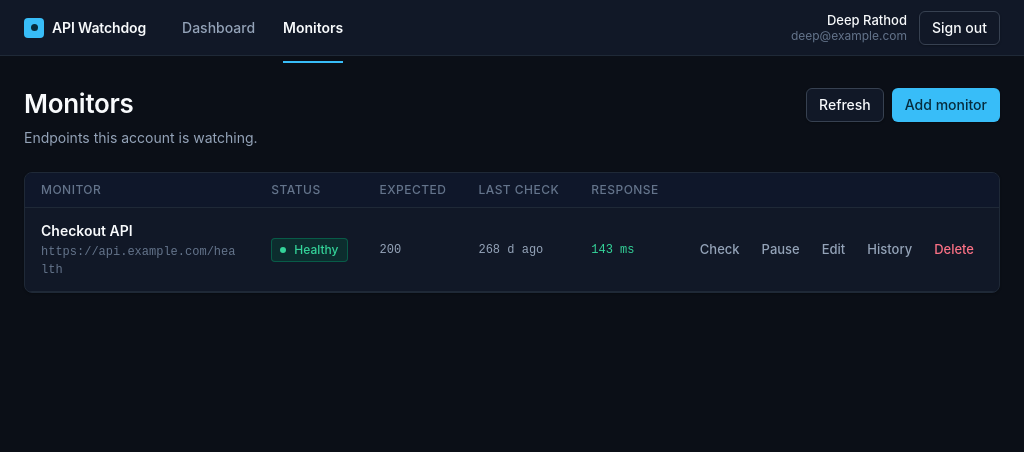
Scenario: manual check › shows a failing target as a failed check, not a failed request
Expected: the text "Checkout API" is shown, [41,222,133,239]
Click the button with aria-label "Check Checkout API now": (720, 250) [691,236,749,264]
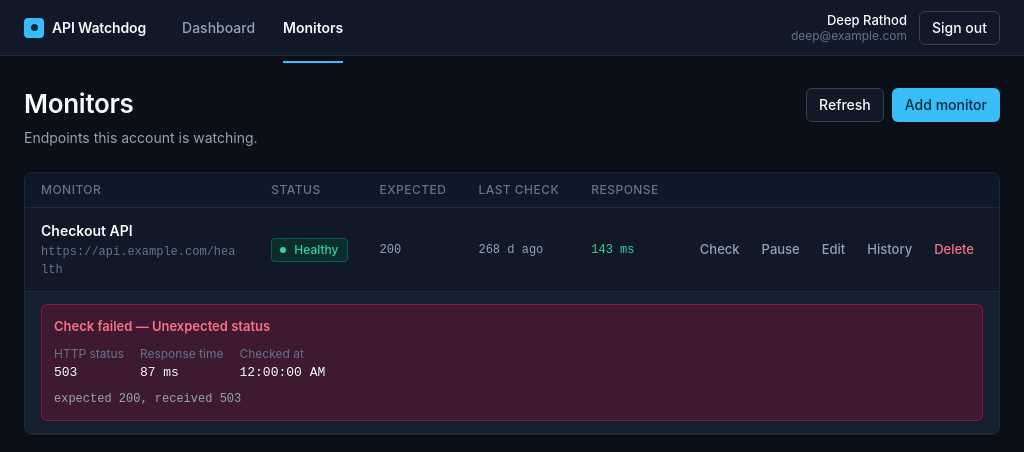
Expected: the message shows "Check failed", [54,318,132,334]
Expected: the message shows "Unexpected status", [132,318,270,334]
Expected: the text "503" is shown, [54,365,77,380]
